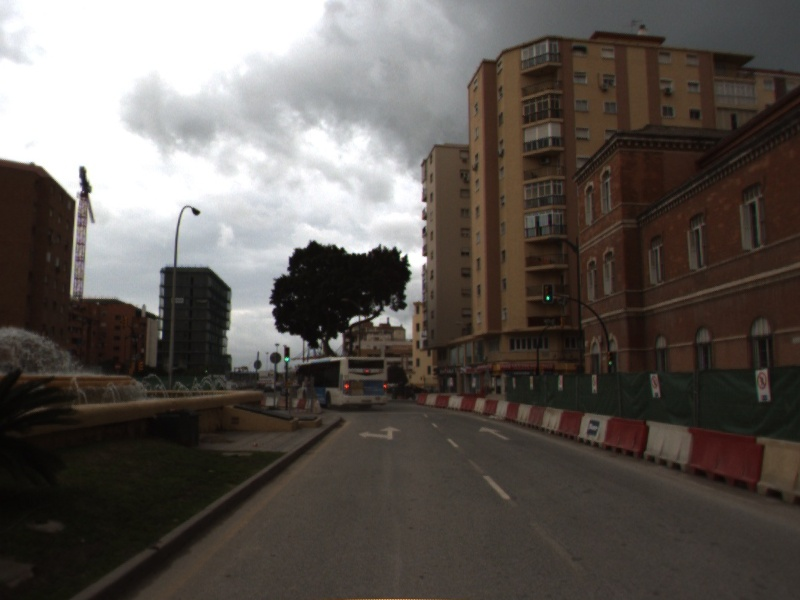STRAIGHT: (477, 424, 514, 442)
STRAIGHT_LEFT: (357, 424, 403, 442)
